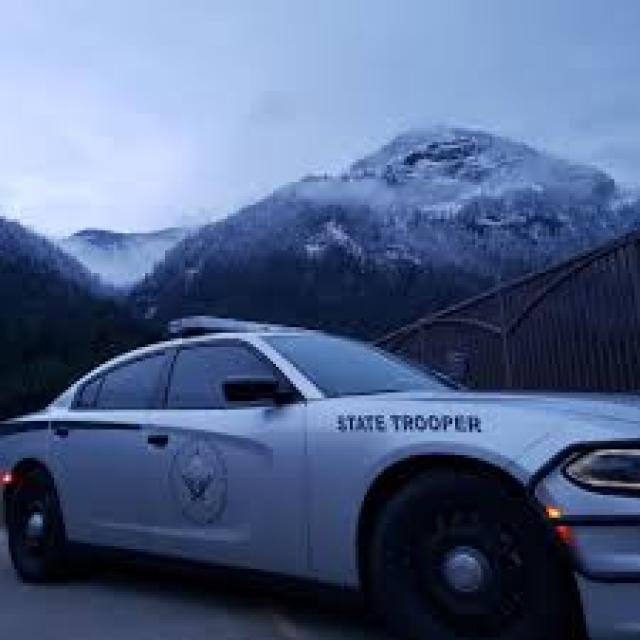cop: (0, 310, 640, 640)
